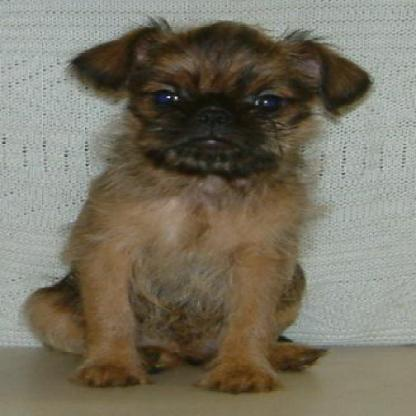Brabancon_griffon: (18, 13, 372, 393)
